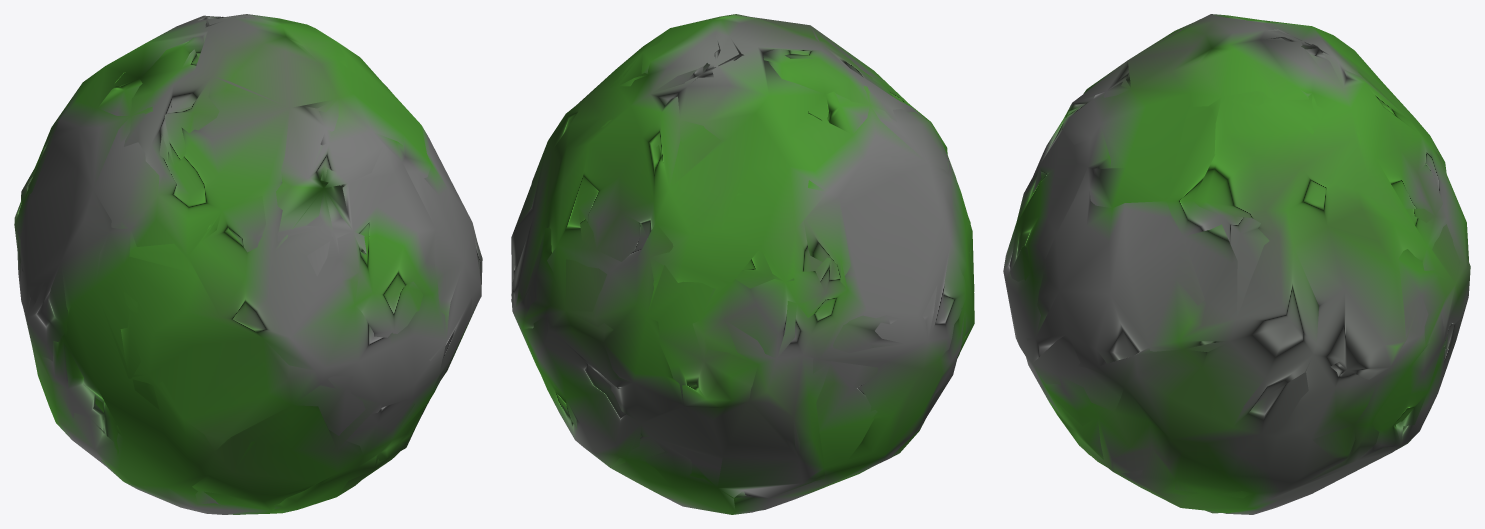
File: gen3d-mossy-boulder-lod0.glb
The picture shows the model from 3 angles, left to right: view 1: azimuth 30°, elevation 25°; view 2: azimuth 150°, elevation 25°; view 3: azimuth 270°, elevation 25°; orthographic projection.
Visible parts, largest first — view 1: part_0; view 2: part_0; view 3: part_0.
Boxes of the visible parts, <box> form: part_0: <box>14,14,482,514</box>; part_0: <box>511,14,974,514</box>; part_0: <box>1003,14,1470,514</box>.
Bounding box in the file's own units: 0.8849 × 0.9978 × 0.8985.
